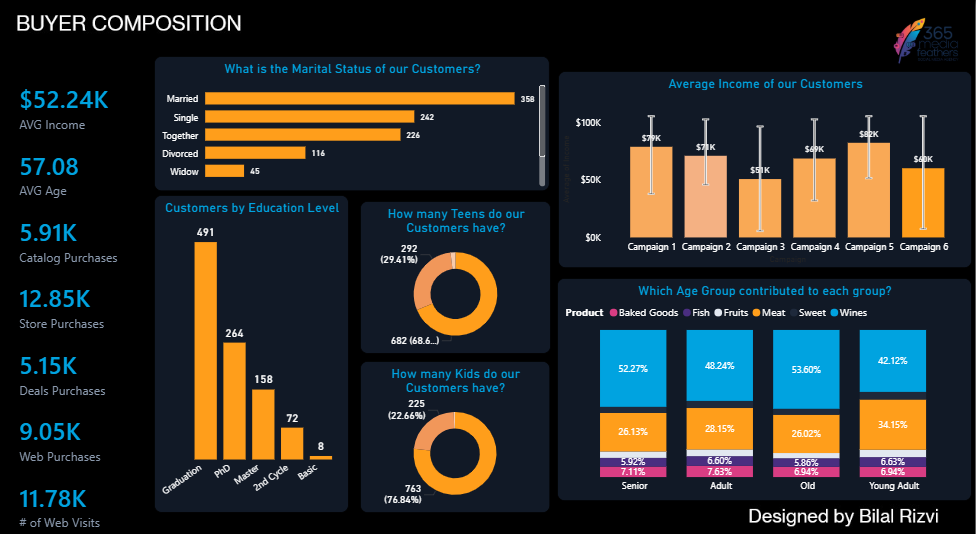

Layout of this report page (visuals, bound fields, positions):
{"tool":"powerbi","page":{"name":"Buyer Composition","canvas":[1280,720],"ordinal":1},"visuals":[{"type":"clusteredColumnChart","title":"Customers by Education Level","fields":{"Category":["CustomerData.Education"],"Y":["Sum(Campaigns.Response)"]},"box":[209.1,283.8,255.4,416.8],"z":0},{"type":"clusteredBarChart","title":"What is the Marital Status of our Customers?","fields":{"Category":["CustomerData.Marital_Status"],"Y":["Sum(Campaigns.Response)"]},"box":[204.6,100.1,518.3,176.3],"z":1000},{"type":"donutChart","title":"How many Kids do our Customers have?","fields":{"Category":["CustomerData.Kidhome"],"Y":["Sum(Campaigns.Response)"]},"box":[473.5,492.9,249.5,200.2],"z":2000},{"type":"donutChart","title":"How many Teens do our Customers have?","fields":{"Y":["Sum(Campaigns.Response)"],"Category":["CustomerData.Teenhome"]},"box":[472,283.8,251,200.2],"z":3000},{"type":"columnChart","title":"Average Income of our Customers","fields":{"Category":["Campaigns.Campaign"],"Y":["Avg(CustomerData. Income )"]},"box":[733.4,97.1,542.2,276.3],"z":4000},{"type":"hundredPercentStackedColumnChart","title":"Which Age Group contributed to each group?","fields":{"Series":["Total Sales.Product"],"Y":["Sum(Total Sales.Total Sales)"],"Category":["CustomerData.Age_Group"]},"box":[734.3,380,542.9,291.4],"z":5000},{"type":"cardVisual","fields":{"Data":["Avg(CustomerData. Income )","Avg(CustomerData.Age)","Sum(CustomerData.NumCatalogPurchases)","Sum(CustomerData.NumStorePurchases)","Sum(CustomerData.NumDealsPurchases)","Sum(CustomerData.NumWebPurchases)","Sum(CustomerData.NumWebVisitsMonth)"]},"box":[0,83.7,192.7,636.3],"z":6000}]}

Visuals, with their boxes in screenshot pixels (x1, y1, x2, y2), scaled from the page's 1280x720 canvas onto the 976x534 screenshot:
"Customers by Education Level" clusteredColumnChart: x1=159 y1=210 x2=354 y2=520
"What is the Marital Status of our Customers?" clusteredBarChart: x1=156 y1=74 x2=551 y2=205
"How many Kids do our Customers have?" donutChart: x1=361 y1=366 x2=551 y2=514
"How many Teens do our Customers have?" donutChart: x1=360 y1=210 x2=551 y2=359
"Average Income of our Customers" columnChart: x1=559 y1=72 x2=973 y2=277
"Which Age Group contributed to each group?" hundredPercentStackedColumnChart: x1=560 y1=282 x2=974 y2=498
cardVisual - Avg(CustomerData. Income ) x Avg(CustomerData.Age): x1=0 y1=62 x2=147 y2=533
